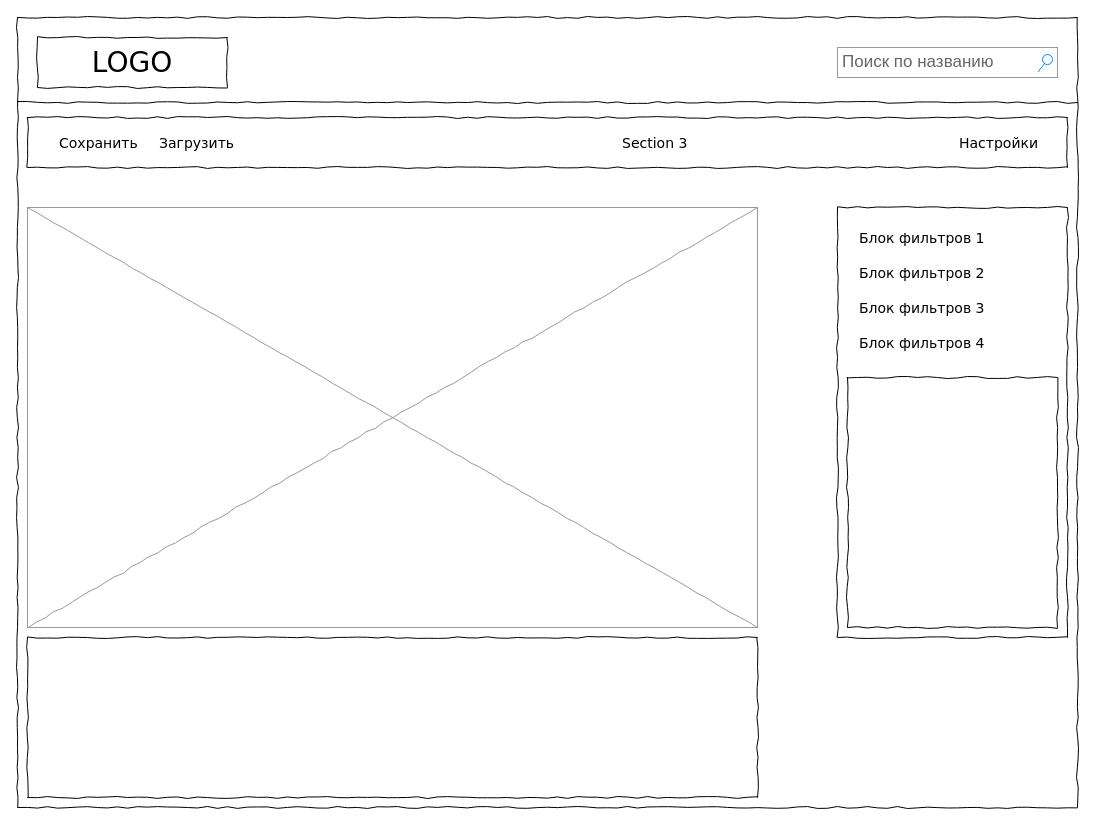
This 1095x825 diagram has some shape labels left out. The shapes that lost their labels are listed below. From the top down, each one's box as (x1, y1, x2, y2) in pixels, then its label:
(846, 376, 1058, 628): Выпадающий список
(26, 636, 758, 798): Информация о контракте
